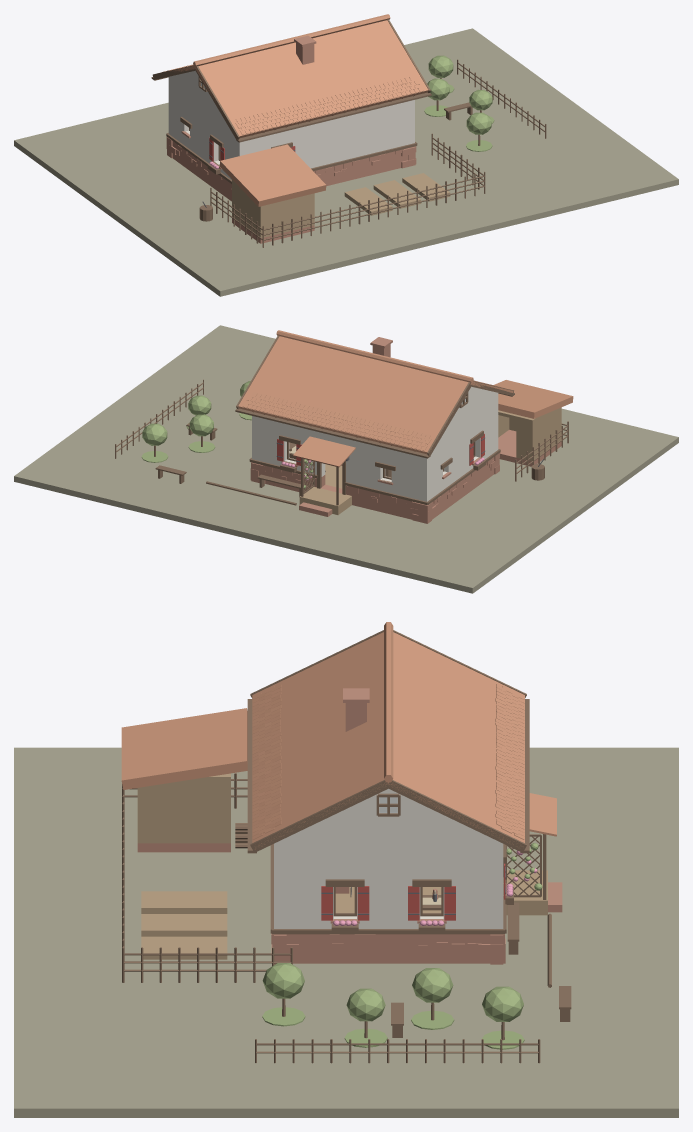
File: red-stone-garden-house-7.glb
3 renders of one model, top to bottom at view 1: azimuth 30°, elevation 25°; view 2: azimuth 150°, elevation 25°; view 3: azimuth 270°, elevation 25°, orthographic. The views are drawn at different scales.
Parts seen in each view (by area): view 1: zemlya__m00, krysha__m03, obolochka__m01, melochi__m02, obolochka__m00, obolochka__m09, melochi__m09, krysha__m02, zelen__m07, obolochka__m02, melochi__m07, krysha__m00; view 2: zemlya__m00, krysha__m03, obolochka__m01, obolochka__m00, obolochka__m09, melochi__m02, obolochka__m02, krysha__m02, zelen__m07, obolochka__m03, melochi__m07, obolochka__m05; view 3: zemlya__m00, krysha__m03, obolochka__m01, obolochka__m00, melochi__m02, obolochka__m09, melochi__m09, krysha__m02, obolochka__m02, zelen__m07, melochi__m07, obolochka__m05 (+2 smaller).
Part boxes in pixels (x1=…): zemlya__m00: x1=14, y1=28, x2=678, y2=296; krysha__m03: x1=161, y1=14, x2=428, y2=206; obolochka__m01: x1=168, y1=70, x2=414, y2=179; melochi__m02: x1=199, y1=59, x2=546, y2=247; obolochka__m00: x1=166, y1=131, x2=416, y2=243; obolochka__m09: x1=232, y1=180, x2=314, y2=237; melochi__m09: x1=344, y1=173, x2=450, y2=215; krysha__m02: x1=151, y1=19, x2=431, y2=142; zelen__m07: x1=427, y1=55, x2=492, y2=134; obolochka__m02: x1=166, y1=76, x2=417, y2=183; melochi__m07: x1=424, y1=84, x2=494, y2=151; krysha__m00: x1=294, y1=35, x2=316, y2=64; zemlya__m00: x1=14, y1=325, x2=678, y2=593; krysha__m03: x1=238, y1=330, x2=573, y2=454; obolochka__m01: x1=252, y1=386, x2=498, y2=501; obolochka__m00: x1=250, y1=429, x2=561, y2=523; obolochka__m09: x1=299, y1=407, x2=561, y2=514; melochi__m02: x1=115, y1=379, x2=568, y2=505; obolochka__m02: x1=249, y1=392, x2=500, y2=505; krysha__m02: x1=235, y1=335, x2=514, y2=458; zelen__m07: x1=142, y1=381, x2=250, y2=445; obolochka__m03: x1=293, y1=436, x2=355, y2=467; melochi__m07: x1=141, y1=413, x2=313, y2=488; obolochka__m05: x1=277, y1=433, x2=484, y2=465; zemlya__m00: x1=14, y1=747, x2=678, y2=1117; krysha__m03: x1=121, y1=622, x2=524, y2=849; obolochka__m01: x1=274, y1=788, x2=503, y2=928; obolochka__m00: x1=137, y1=843, x2=562, y2=964; melochi__m02: x1=122, y1=773, x2=571, y2=1063; obolochka__m09: x1=137, y1=773, x2=547, y2=915; melochi__m09: x1=141, y1=891, x2=227, y2=959; krysha__m02: x1=247, y1=630, x2=529, y2=853; obolochka__m02: x1=270, y1=793, x2=546, y2=934; zelen__m07: x1=262, y1=963, x2=523, y2=1021; melochi__m07: x1=262, y1=843, x2=542, y2=1049; obolochka__m05: x1=321, y1=863, x2=505, y2=920.
Size of the model in its own units: 23.83 by 6.56 by 18.55.
